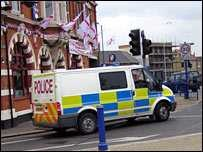Police Van: (19, 63, 179, 127)
